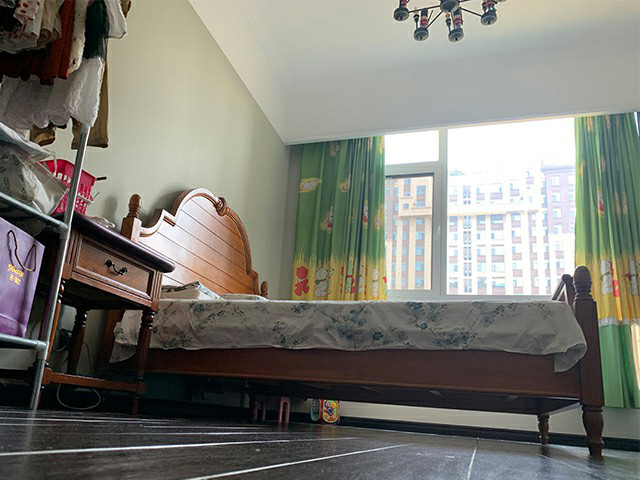bed: (88, 186, 606, 461)
curtain: (599, 111, 640, 410)
stool: (41, 209, 175, 416)
